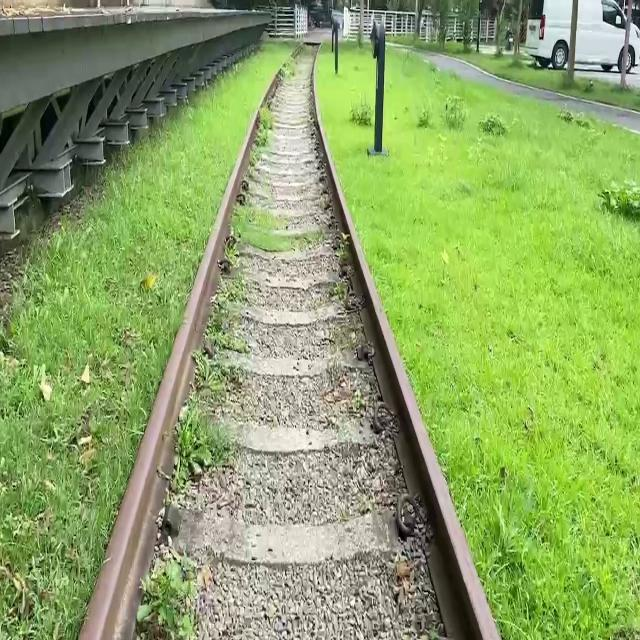rail-track: (156, 49, 445, 640)
